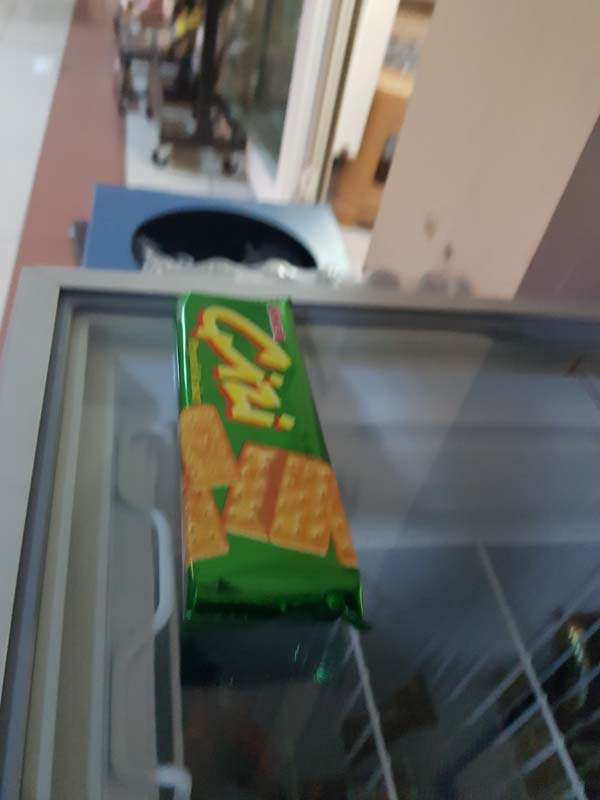cizi: (161, 279, 375, 636)
